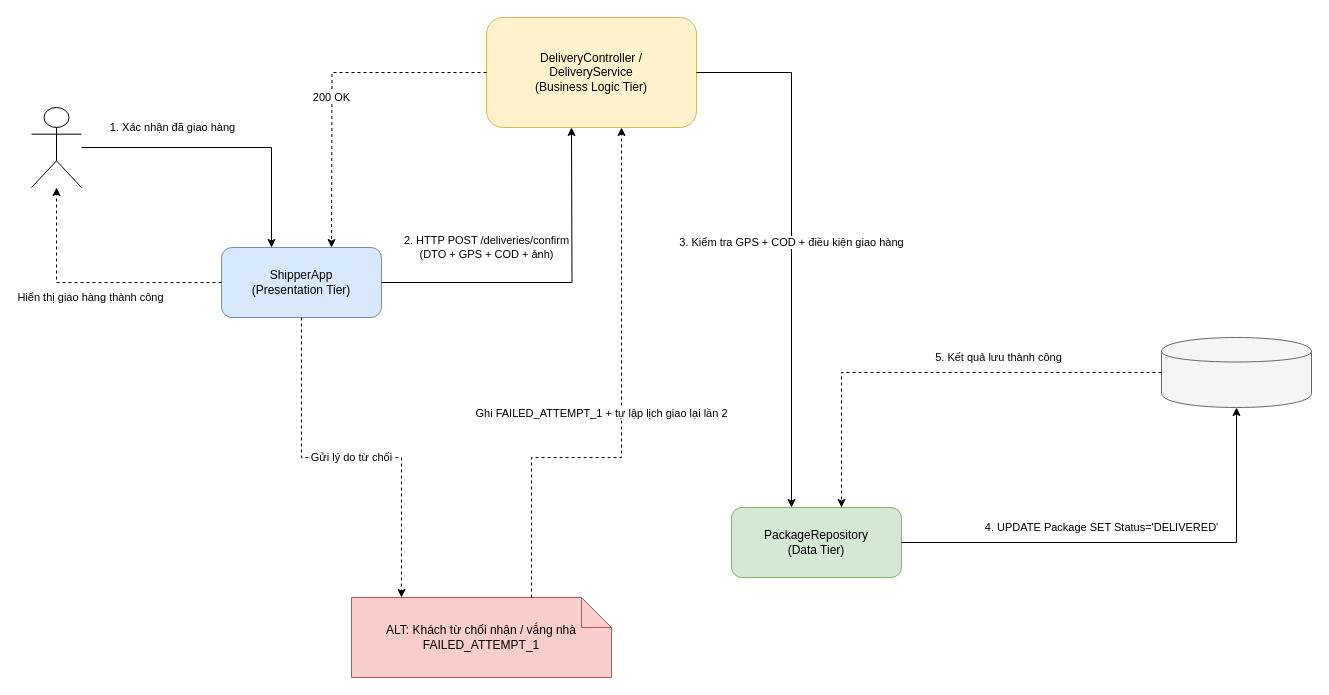
Image size: 1329x695. Some labels were removed from this diagram. Here are the shapes that lost their labels. From the top down, the centre of each, then its label:
At point 56,147: "Shipper".
At point 1236,372: "Package Database".
